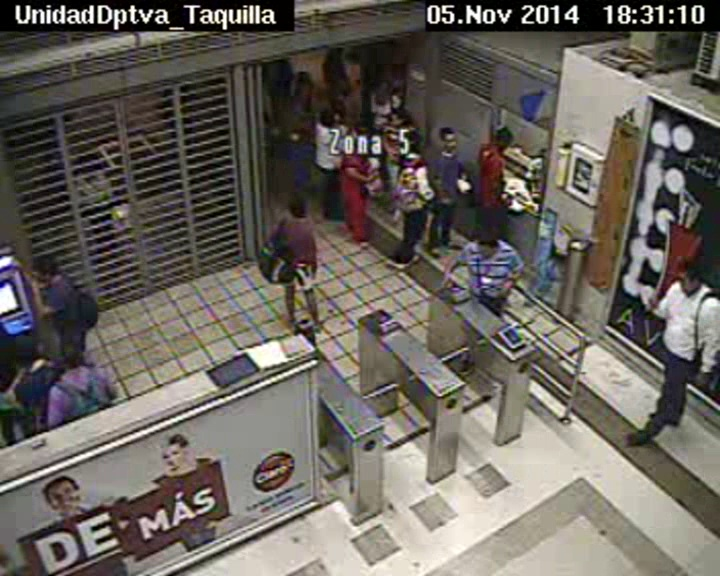person: (673, 260, 702, 291), (32, 253, 61, 281), (435, 125, 463, 151), (285, 189, 310, 217), (491, 124, 514, 153), (474, 230, 499, 256), (58, 344, 84, 369), (23, 336, 48, 361), (388, 105, 411, 131), (293, 76, 315, 99), (404, 130, 425, 152), (316, 106, 338, 127), (348, 134, 368, 155), (329, 45, 348, 63), (376, 81, 391, 97)
